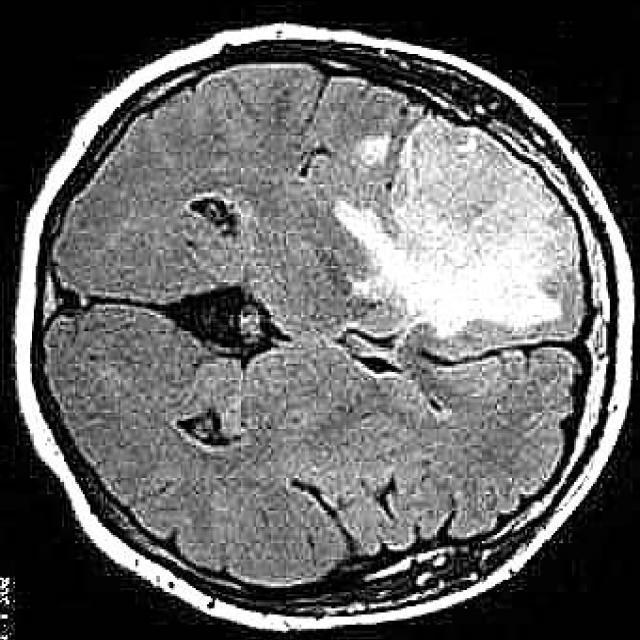tumor: (332, 114, 587, 334)
